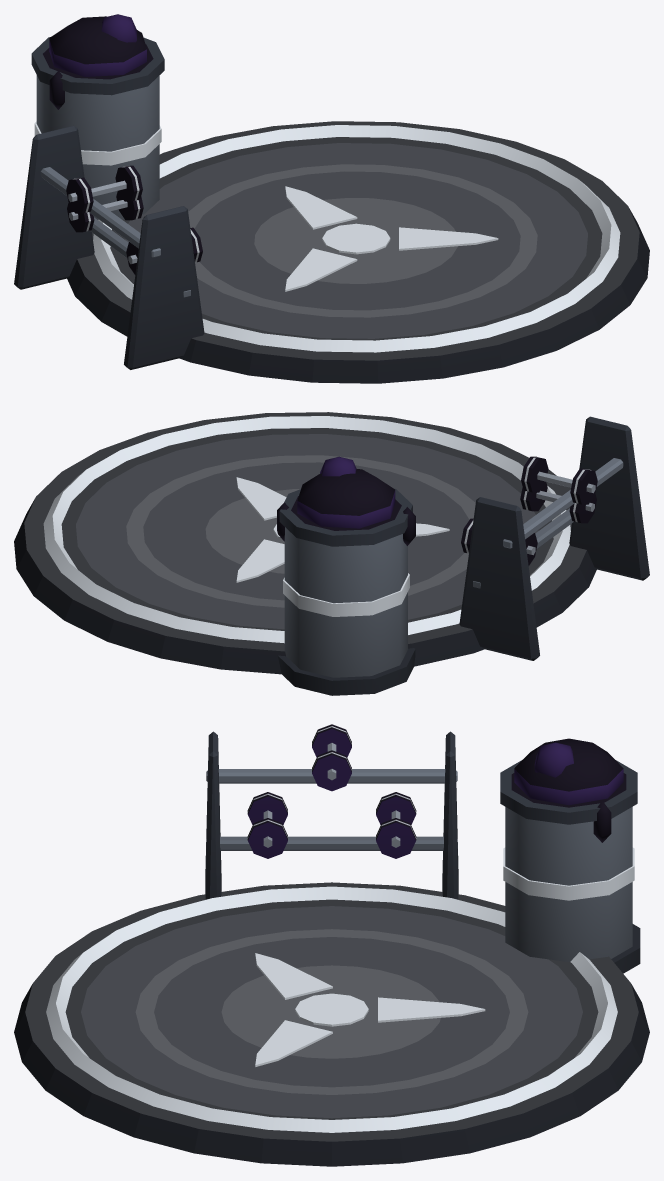
The model's file is train_1.glb.
3 renders of one model, top to bottom at view 1: azimuth 30°, elevation 25°; view 2: azimuth 150°, elevation 25°; view 3: azimuth 270°, elevation 25°, orthographic. The views are drawn at different scales.
Parts seen in each view (by area): view 1: Body, Glow; view 2: Body, Glow; view 3: Body, Glow.
Boxes of the visible parts, <box> form: Body: <box>14,14,649,383</box>; Glow: <box>34,121,620,352</box>; Body: <box>14,412,649,695</box>; Glow: <box>43,416,570,643</box>; Body: <box>14,724,649,1166</box>; Glow: <box>46,847,634,1132</box>.
Bounding box in the file's own units: 2.42 × 0.8624 × 2.28.
